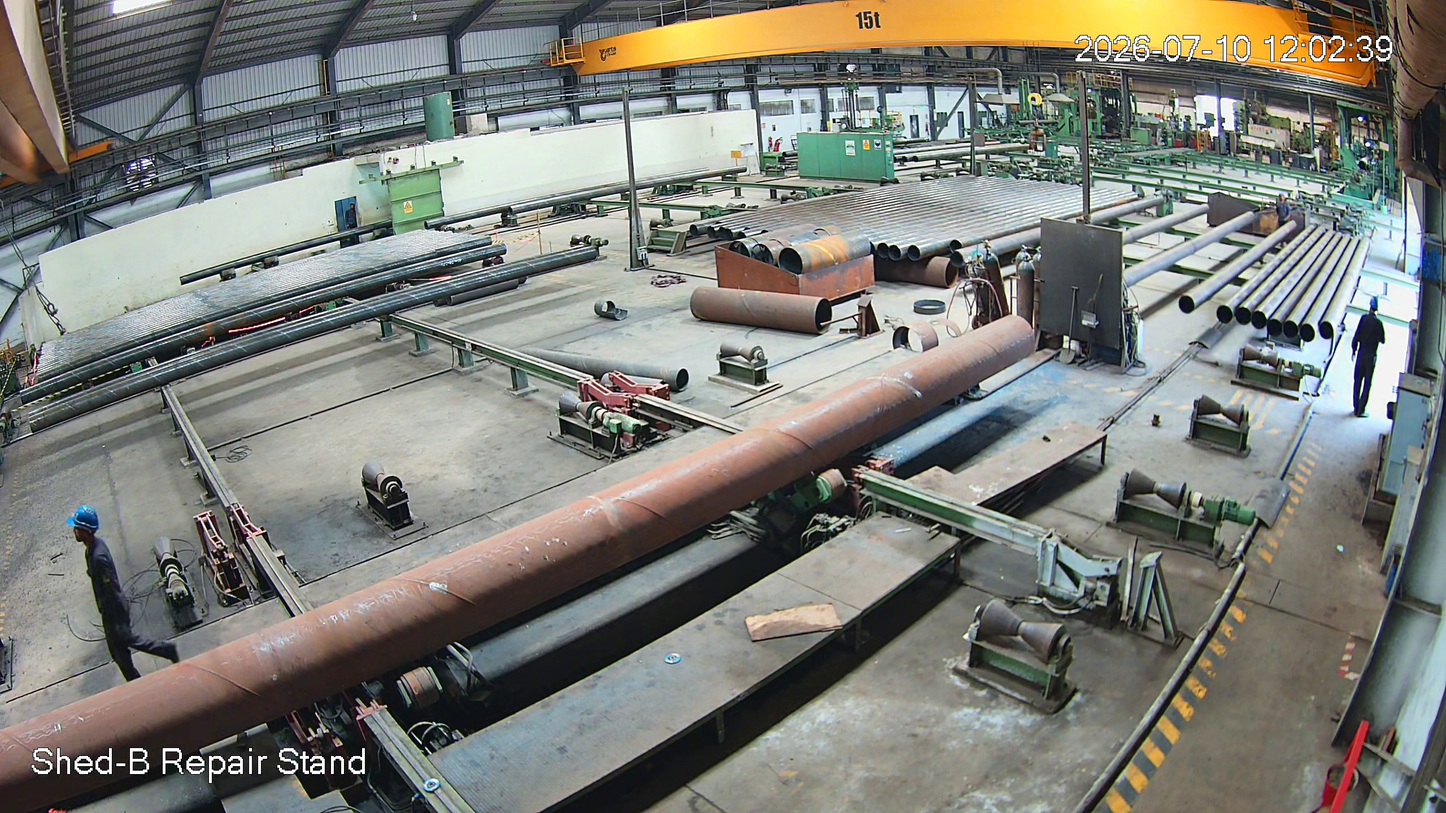Helmet: (60, 490, 141, 607)
Person: (52, 496, 181, 718)
